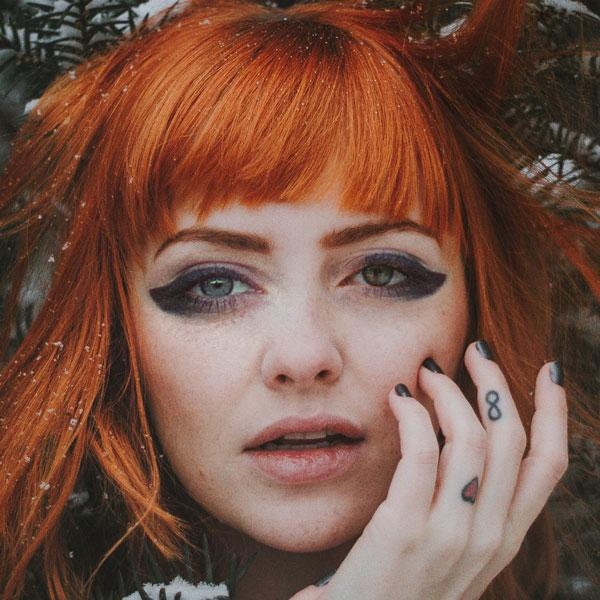Eyes: (155, 255, 271, 318), (327, 245, 432, 308)
